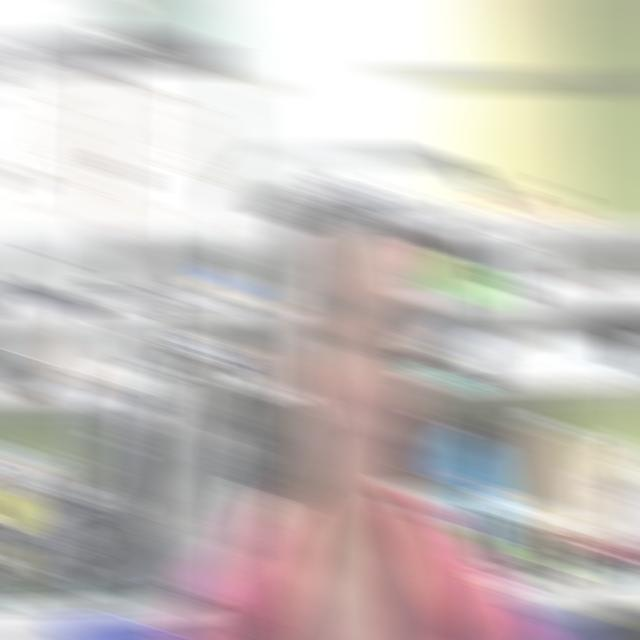Without Helmet: (255, 147, 474, 556)
